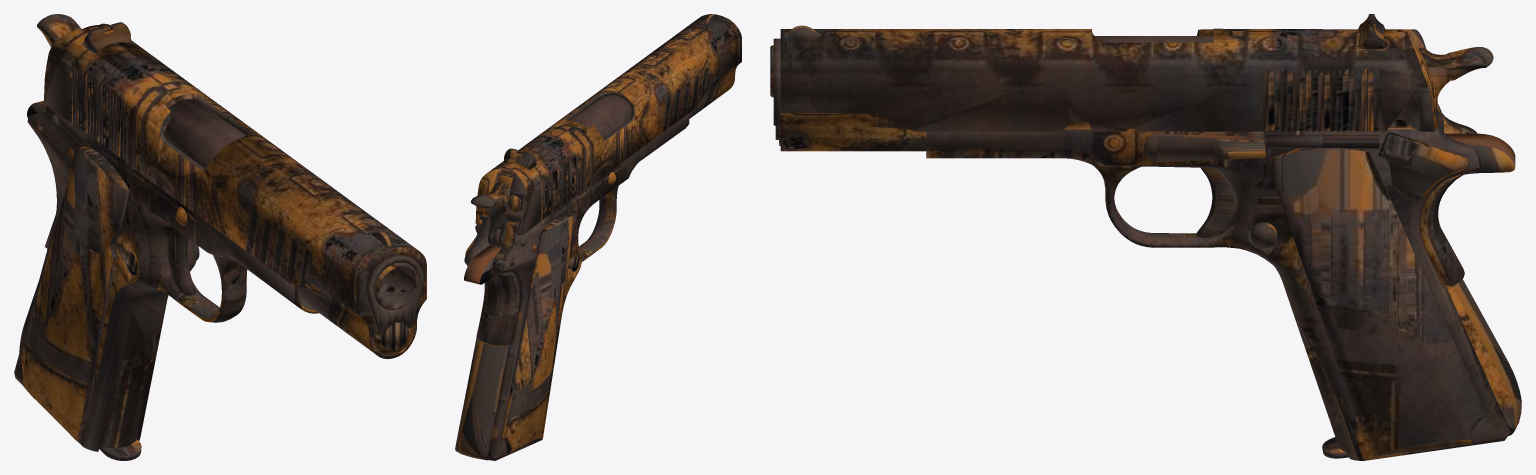
The model's file is colt 1911.glb.
3 views of the same model, side by side, from view 1: azimuth 30°, elevation 25°; view 2: azimuth 150°, elevation 25°; view 3: azimuth 270°, elevation 25° (orthographic). The views are drawn at different scales.
Parts seen in each view (by area): view 1: desirefx.me_002; view 2: desirefx.me_002; view 3: desirefx.me_002.
Part boxes in pixels (<box>): desirefx.me_002: <box>14,14,426,460</box>; desirefx.me_002: <box>455,14,741,460</box>; desirefx.me_002: <box>770,14,1521,460</box>.
Size of the model in its own units: 0.1403 by 0.6334 by 1.
Materials: 1 (1 with a texture image).
